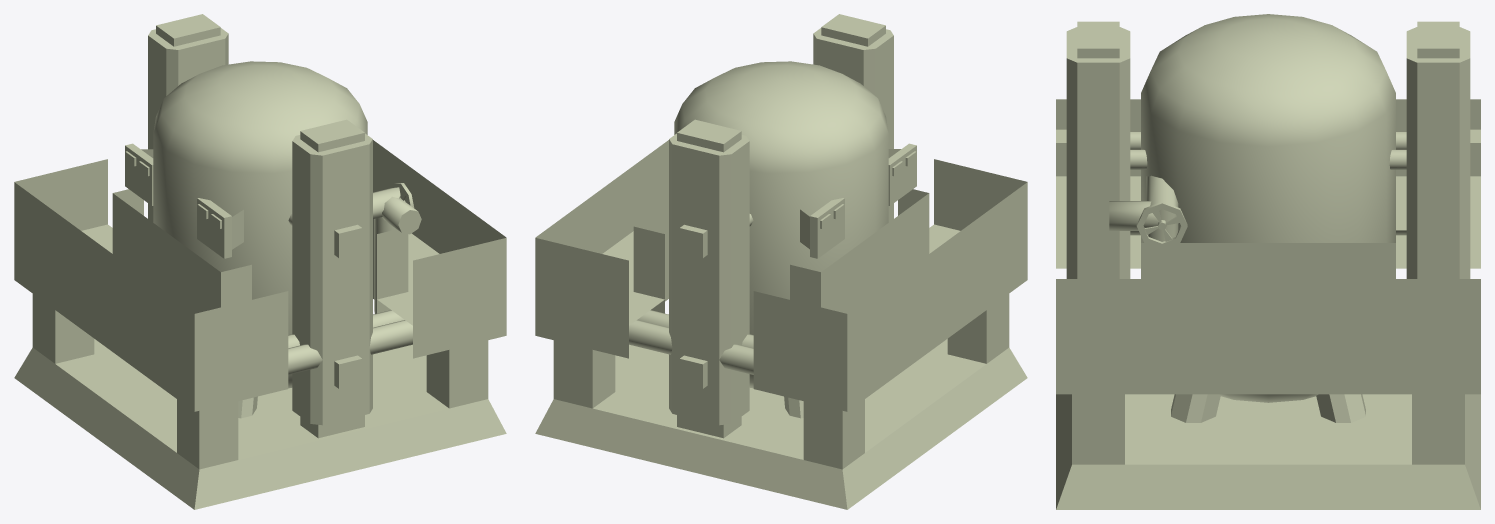
Rendered from zirnox.obj.
The picture shows the model from 3 angles, left to right: view 1: azimuth 30°, elevation 25°; view 2: azimuth 150°, elevation 25°; view 3: azimuth 270°, elevation 25°; orthographic projection. The views are drawn at different scales.
Visible parts, largest first — view 1: Plane; view 2: Plane; view 3: Plane.
Boxes of the visible parts, x1=… form: Plane: x1=14, y1=14, x2=506, y2=509; Plane: x1=535, y1=14, x2=1027, y2=509; Plane: x1=1056, y1=14, x2=1480, y2=509.
Bounding box in the file's own units: 5 × 5 × 5.
